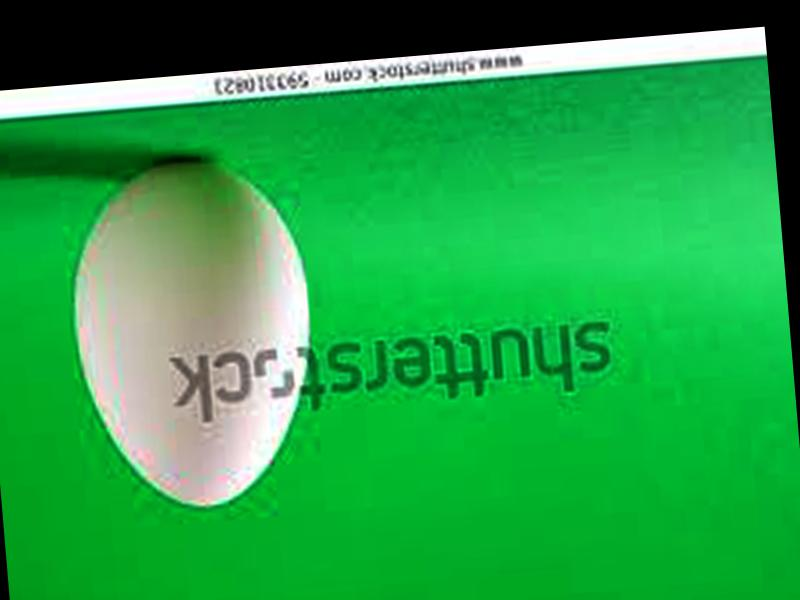Eggs: (59, 145, 324, 515)
